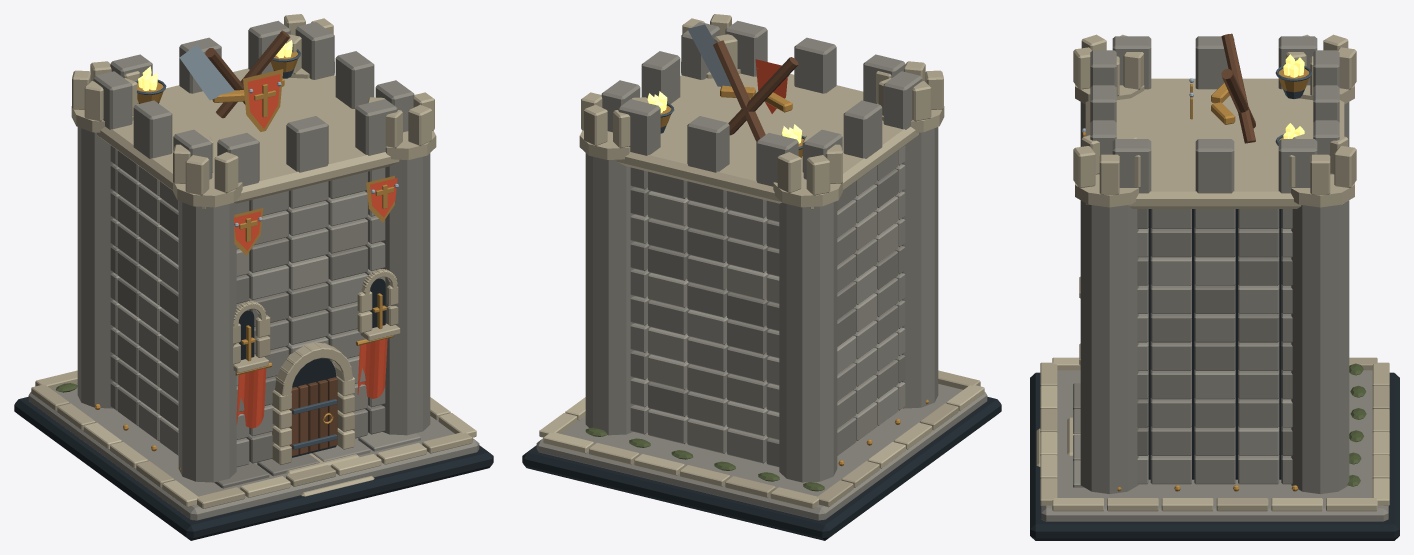
Rendered from militia__guerreiro__L20.glb.
3 views of the same model, side by side, from view 1: azimuth 30°, elevation 25°; view 2: azimuth 150°, elevation 25°; view 3: azimuth 270°, elevation 25° (orthographic). The views are drawn at different scales.
Parts seen in each view (by area): view 1: structure, weapon, banners; view 2: structure, weapon; view 3: structure, weapon, effects.
Boxes of the visible parts, bbox=[...] form: structure: bbox=[14, 14, 493, 540]; weapon: bbox=[179, 30, 290, 131]; banners: bbox=[235, 335, 393, 428]; structure: bbox=[522, 14, 1001, 540]; weapon: bbox=[687, 24, 798, 141]; structure: bbox=[1030, 34, 1399, 540]; weapon: bbox=[1189, 33, 1255, 143]; effects: bbox=[1283, 54, 1304, 138].
Bounding box in the file's own units: 0.803 × 1.02 × 0.803.
